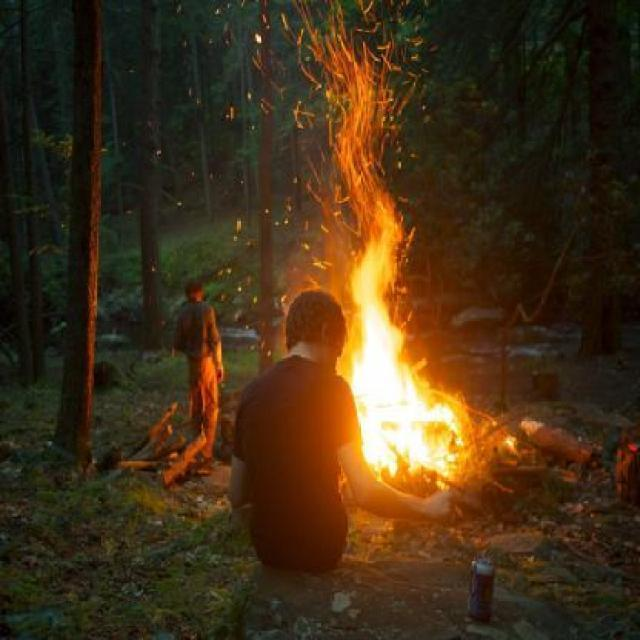fire: (350, 216, 466, 477)
